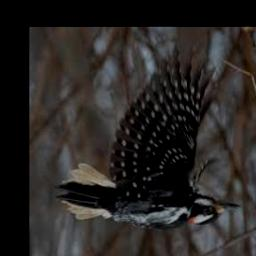Woodpecker: (56, 50, 240, 231)
